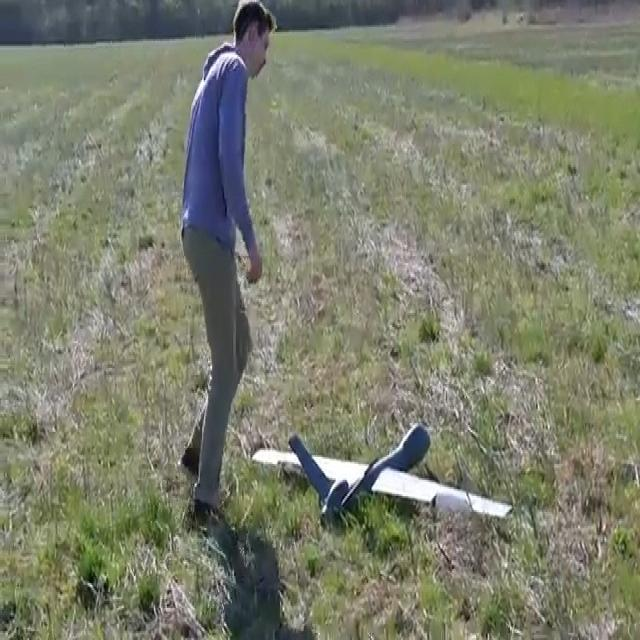iha: (252, 425, 510, 517)
